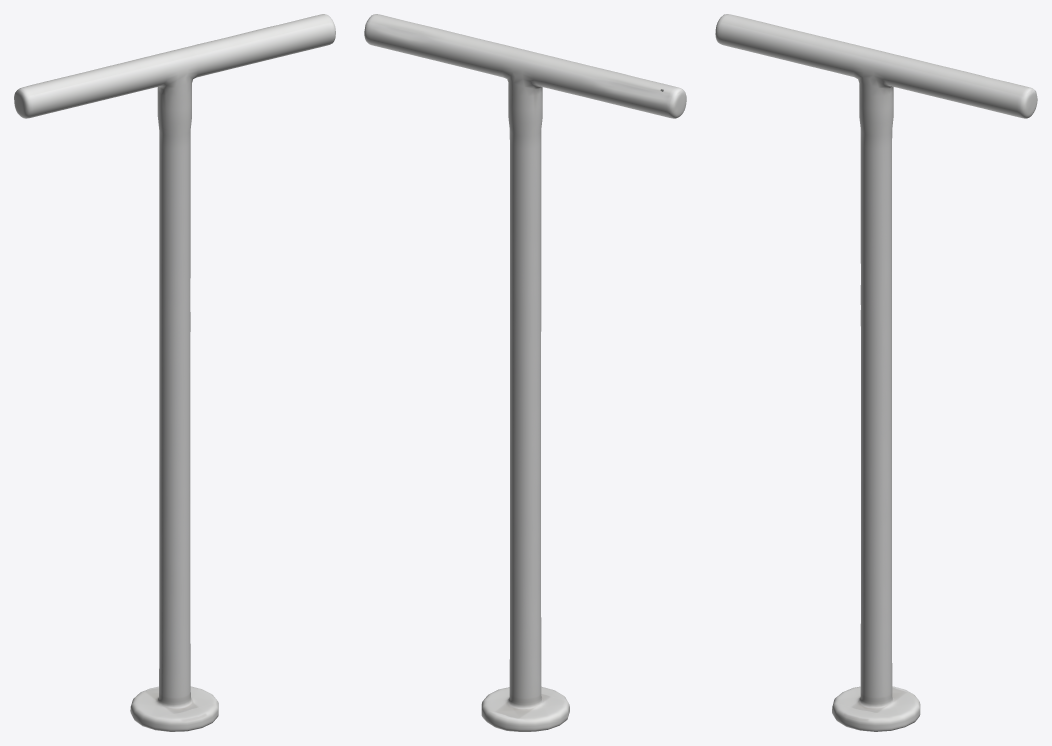
Rendered from Meshy_AI_Modern_Towel_Bar_0101000100_texture.fbx.
The picture shows the model from 3 angles, left to right: view 1: azimuth 30°, elevation 25°; view 2: azimuth 150°, elevation 25°; view 3: azimuth 330°, elevation 25°; orthographic projection.
Visible parts, largest first — view 1: Mesh0; view 2: Mesh0; view 3: Mesh0.
Part boxes in pixels (box(x1,y1,x2,y2)): Mesh0: box(14, 14, 335, 731); Mesh0: box(364, 14, 686, 731); Mesh0: box(715, 14, 1037, 731).
Size of the model in its own units: 94.22 by 192 by 23.29.
Materials: 1 (1 with a texture image).
